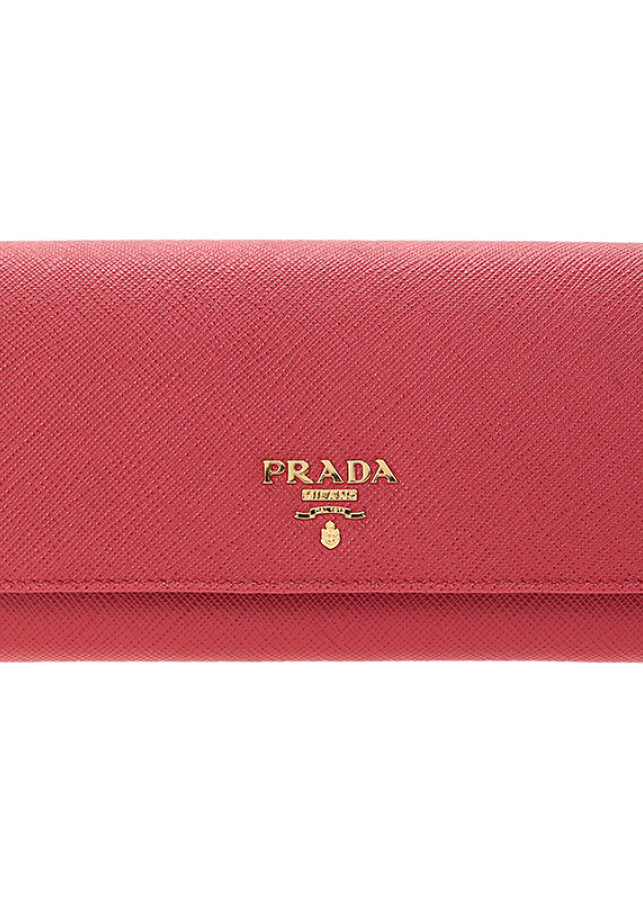Prada: (257, 452, 400, 489)
